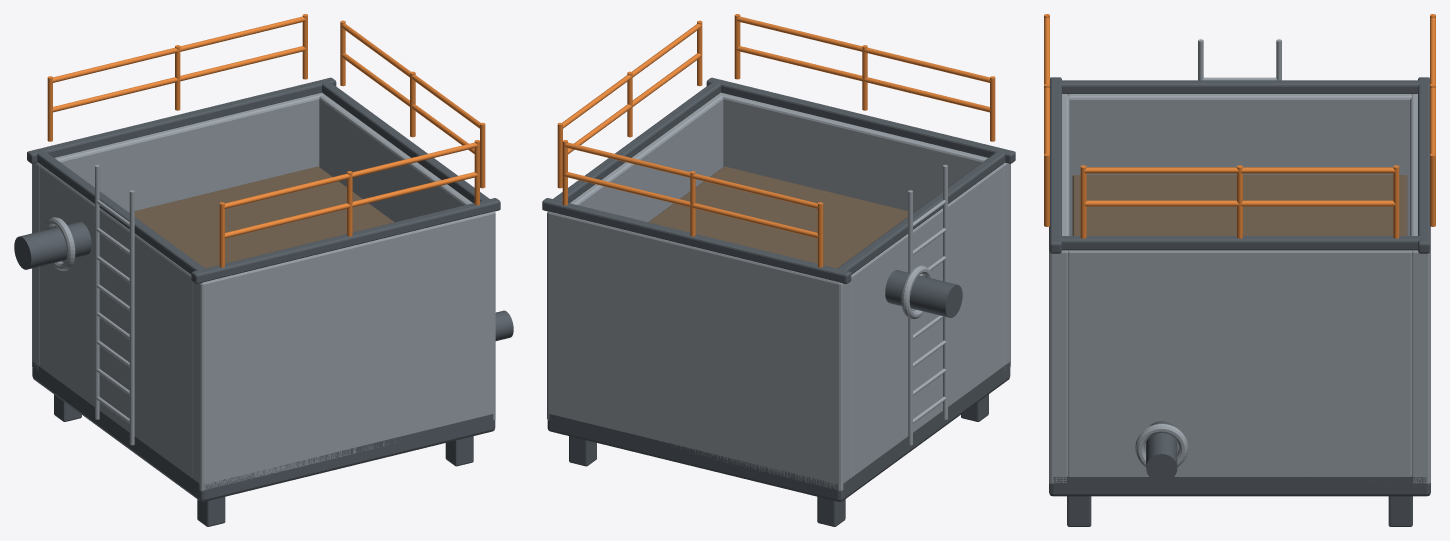
File: SUMP-01.glb
The picture shows the model from 3 angles, left to right: view 1: azimuth 30°, elevation 25°; view 2: azimuth 150°, elevation 25°; view 3: azimuth 270°, elevation 25°; orthographic projection. The views are drawn at different scales.
Parts seen in each view (by area): view 1: SUMP-01_WALL_S, SUMP-01_WALL_W, SUMP-01, SUMP-01_WALL_N, SUMP-01_SLURRY_SURFACE, SUMP-01_FLOOR, SUMP-01_WALL_E, SUMP-01_INLET_NOZZLE, SUMP-01_DETAIL_LADDER_SIDE_A, SUMP-01_DETAIL_LADDER_SIDE_B, SUMP-01_LEG_NN, SUMP-01_LEG_PN (+1 smaller); view 2: SUMP-01_WALL_N, SUMP-01_WALL_W, SUMP-01, SUMP-01_WALL_S, SUMP-01_SLURRY_SURFACE, SUMP-01_FLOOR, SUMP-01_WALL_E, SUMP-01_INLET_NOZZLE, SUMP-01_DETAIL_LADDER_SIDE_B, SUMP-01_DETAIL_LADDER_SIDE_A, SUMP-01_LEG_NP, SUMP-01_LEG_PP (+1 smaller); view 3: SUMP-01_WALL_E, SUMP-01_WALL_W, SUMP-01, SUMP-01_SLURRY_SURFACE, SUMP-01_FLOOR, SUMP-01_WALL_N, SUMP-01_WALL_S, SUMP-01_OUTLET_NOZZLE, SUMP-01_DETAIL_OUTLET_FLANGE, SUMP-01_LEG_PN, SUMP-01_LEG_PP.
Boxes of the visible parts, x1,y1,x2,y2 form: SUMP-01_WALL_S: (193, 211, 495, 491); SUMP-01_WALL_W: (39, 165, 193, 478); SUMP-01: (27, 14, 500, 423); SUMP-01_WALL_N: (32, 92, 324, 371); SUMP-01_SLURRY_SURFACE: (129, 166, 394, 268); SUMP-01_FLOOR: (32, 362, 495, 501); SUMP-01_WALL_E: (319, 95, 472, 222); SUMP-01_INLET_NOZZLE: (14, 222, 91, 269); SUMP-01_DETAIL_LADDER_SIDE_A: (129, 190, 134, 445); SUMP-01_DETAIL_LADDER_SIDE_B: (95, 164, 99, 419); SUMP-01_LEG_NN: (197, 497, 225, 526); SUMP-01_LEG_PN: (445, 436, 473, 466); SUMP-01_WALL_N: (547, 211, 849, 491); SUMP-01_WALL_W: (849, 165, 1002, 478); SUMP-01: (542, 14, 1015, 423); SUMP-01_WALL_S: (718, 92, 1010, 370); SUMP-01_SLURRY_SURFACE: (648, 166, 913, 268); SUMP-01_FLOOR: (547, 362, 1010, 501); SUMP-01_WALL_E: (570, 95, 723, 222); SUMP-01_INLET_NOZZLE: (885, 270, 962, 317); SUMP-01_DETAIL_LADDER_SIDE_B: (908, 190, 912, 445); SUMP-01_DETAIL_LADDER_SIDE_A: (943, 164, 947, 419); SUMP-01_LEG_NP: (817, 496, 845, 526); SUMP-01_LEG_PP: (569, 436, 596, 466); SUMP-01_WALL_E: (1068, 250, 1411, 476); SUMP-01_WALL_W: (1068, 94, 1411, 235); SUMP-01: (1044, 14, 1435, 253); SUMP-01_SLURRY_SURFACE: (1072, 175, 1407, 235); SUMP-01_FLOOR: (1049, 476, 1430, 496); SUMP-01_WALL_N: (1410, 94, 1430, 484); SUMP-01_WALL_S: (1049, 94, 1069, 484); SUMP-01_OUTLET_NOZZLE: (1146, 421, 1177, 482); SUMP-01_DETAIL_OUTLET_FLANGE: (1135, 423, 1188, 467); SUMP-01_LEG_PN: (1067, 496, 1091, 526); SUMP-01_LEG_PP: (1388, 496, 1412, 526).
Bounding box in the file's own units: 6.2 × 4.69 × 4.51.
